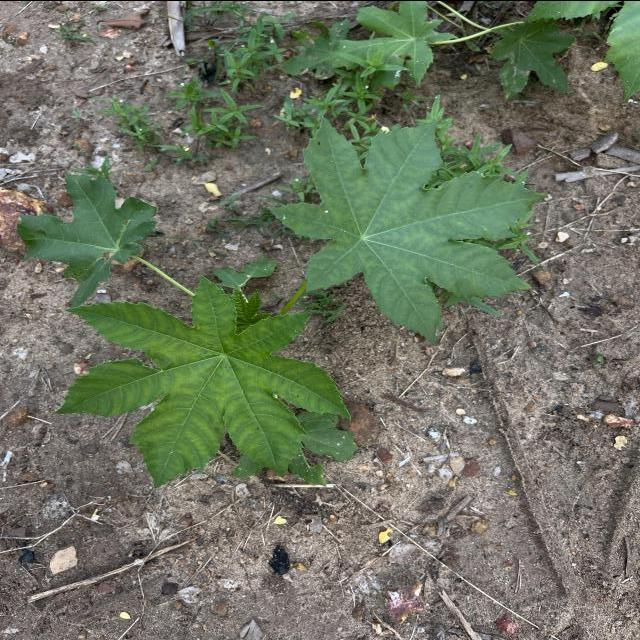Ricinus communis linn: (262, 112, 552, 348), (48, 271, 355, 490)
